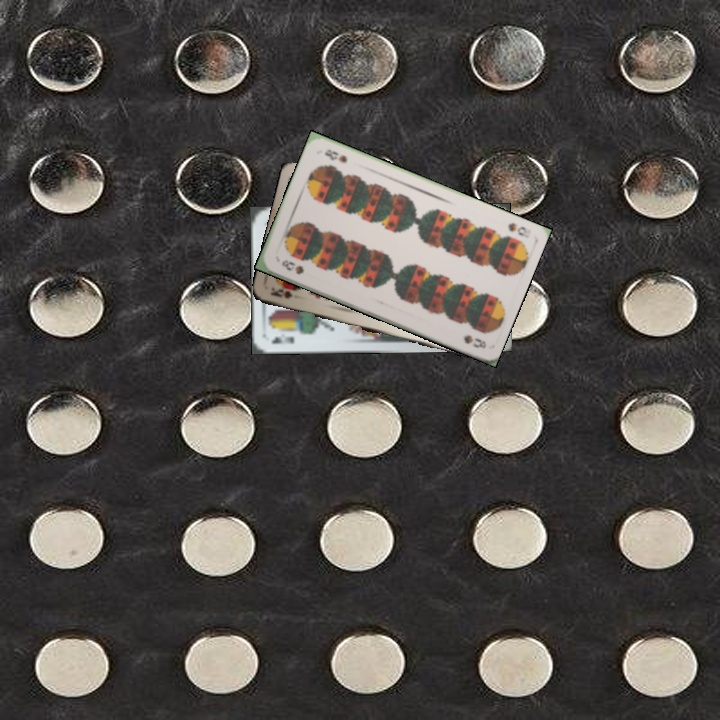EK: (268, 332, 297, 347)
S8: (504, 218, 534, 241), (277, 255, 307, 277)
SK: (266, 284, 295, 301)
